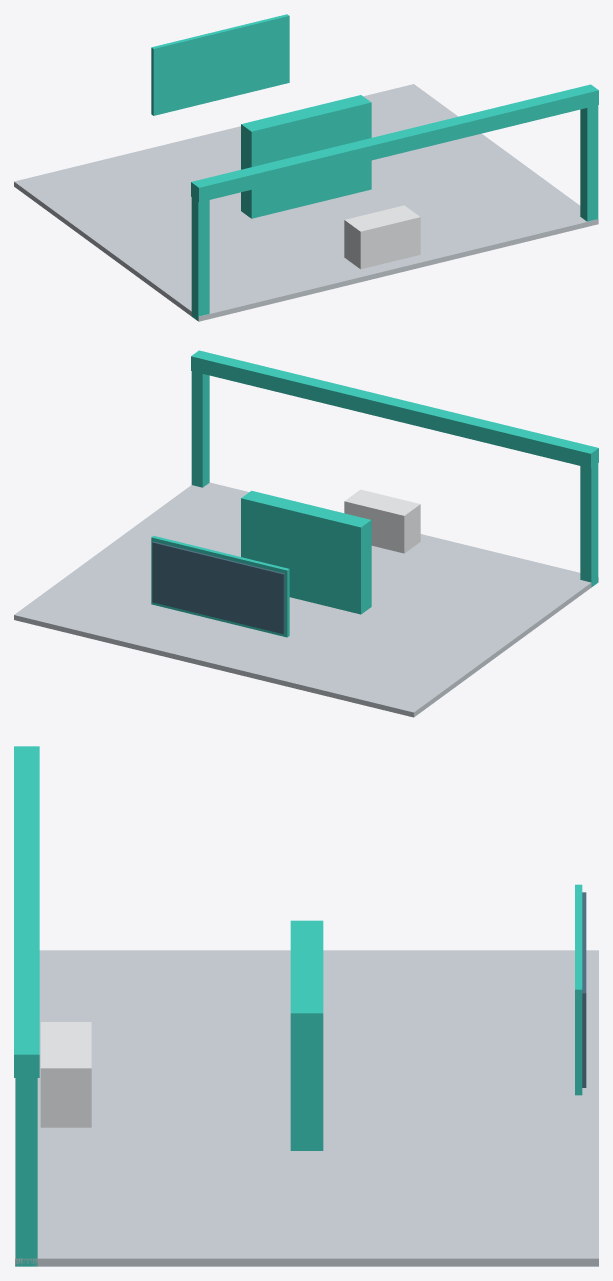
3 renders of one model, top to bottom at view 1: azimuth 30°, elevation 25°; view 2: azimuth 150°, elevation 25°; view 3: azimuth 270°, elevation 25°, orthographic. The views are drawn at different scales.
Parts seen in each view (by area): view 1: Exhibition Booth Concept; view 2: Exhibition Booth Concept; view 3: Exhibition Booth Concept.
Part boxes in pixels (bbox=[...]): Exhibition Booth Concept: bbox=[14, 14, 598, 321]; Exhibition Booth Concept: bbox=[14, 350, 598, 717]; Exhibition Booth Concept: bbox=[14, 746, 598, 1266].
Size of the model in its own units: 10 by 3.2 by 8.01.
